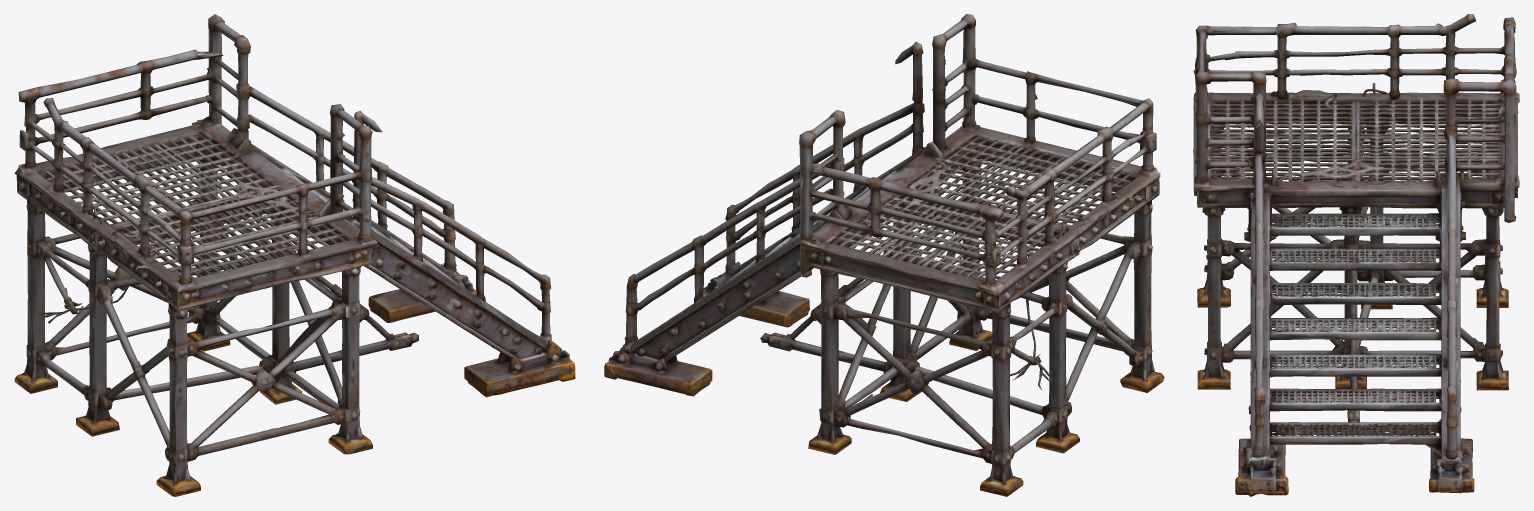
File: 10_金属楼梯平台_2048.fbx
3 renders of one model, left to right at view 1: azimuth 30°, elevation 25°; view 2: azimuth 150°, elevation 25°; view 3: azimuth 270°, elevation 25°, orthographic. The views are drawn at different scales.
Visible parts, largest first — view 1: tripo_node_e4c5adf9; view 2: tripo_node_e4c5adf9; view 3: tripo_node_e4c5adf9.
Boxes of the visible parts, x1,y1,x2,y2 form: tripo_node_e4c5adf9: (14,14,575,496); tripo_node_e4c5adf9: (604,14,1164,496); tripo_node_e4c5adf9: (1193,14,1519,496).
Bounding box in the file's own units: 0.9847 × 0.6928 × 0.6479.
